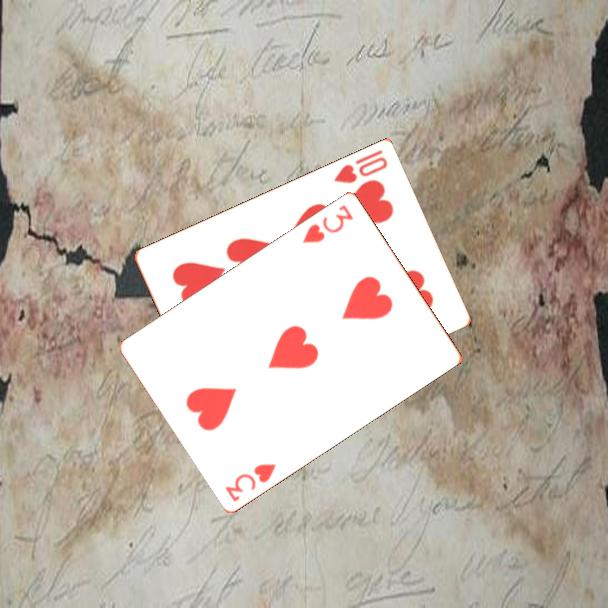h03: (299, 201, 356, 246), (222, 459, 279, 504)
h10: (330, 146, 390, 187)
